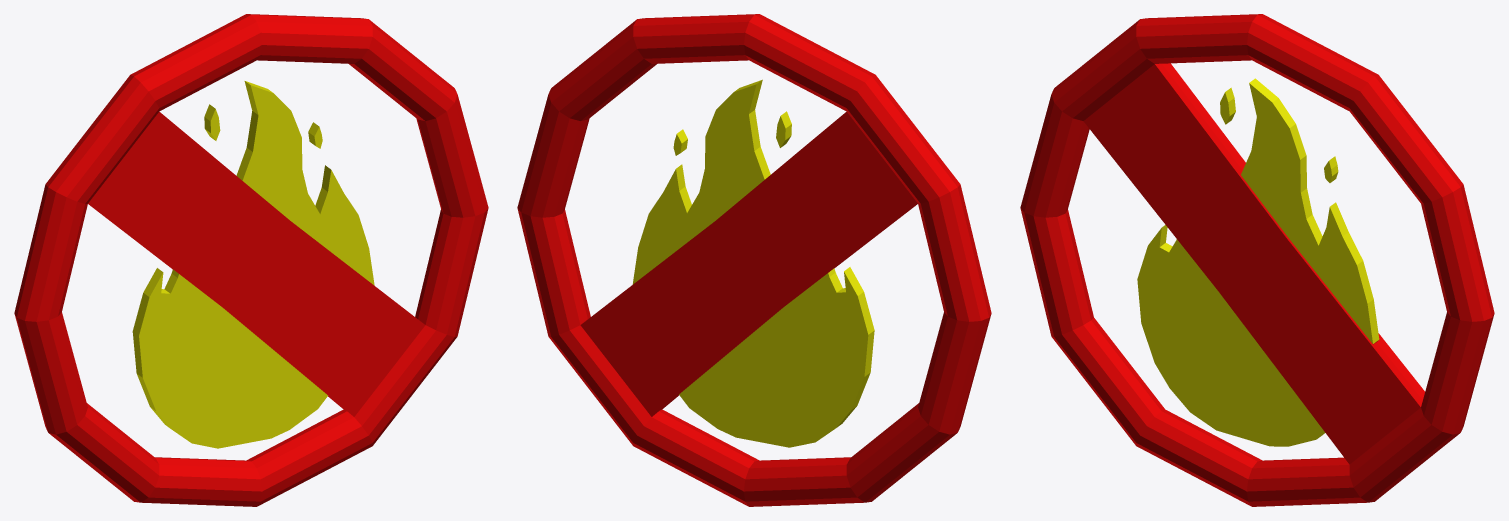
File: NoCooldown.fbx
The picture shows the model from 3 angles, left to right: view 1: azimuth 30°, elevation 25°; view 2: azimuth 150°, elevation 25°; view 3: azimuth 330°, elevation 25°; orthographic projection.
Visible parts, largest first — view 1: polySurface4; view 2: polySurface4; view 3: polySurface4.
Part boxes in pixels (x1,y1,x2,y2): polySurface4: (14,14,488,506); polySurface4: (517,14,991,506); polySurface4: (1020,14,1494,506).
Bounding box in the file's own units: 19.12 × 19.12 × 1.5.
